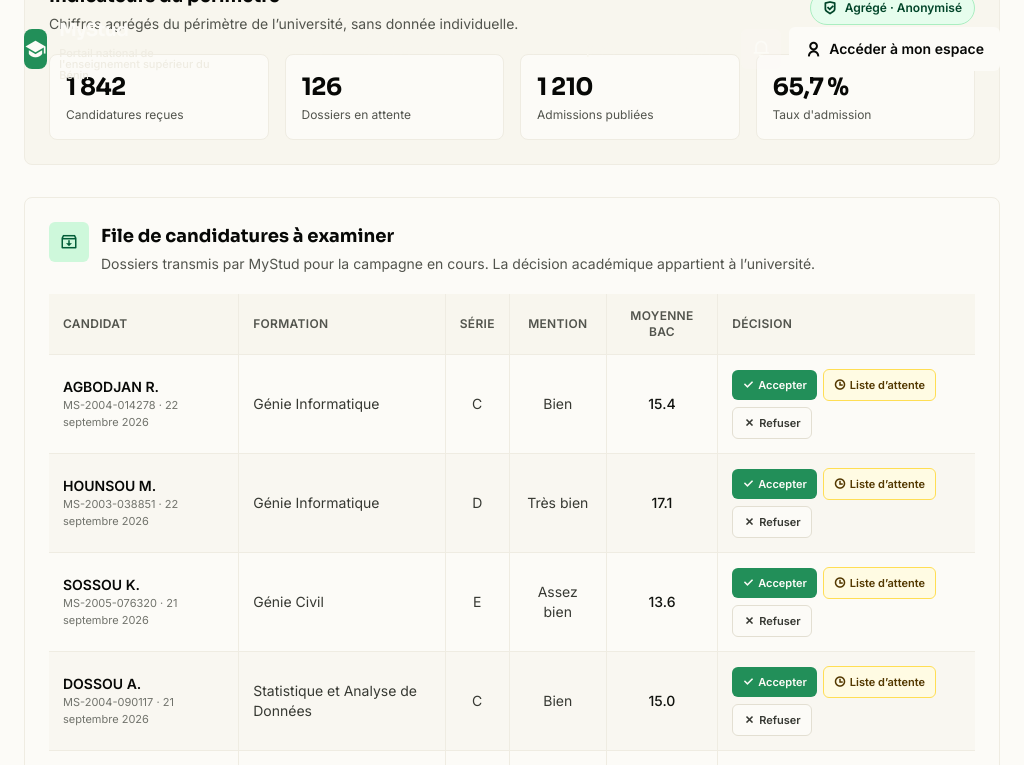
Scenario: Universite › keeps the locally-built audit event when posting to the backend fails
(page scrolled)
Click the button "Accepter" in the row of "AGBODJAN R." at (775, 385), box [732,370,817,400]
(page scrolled)
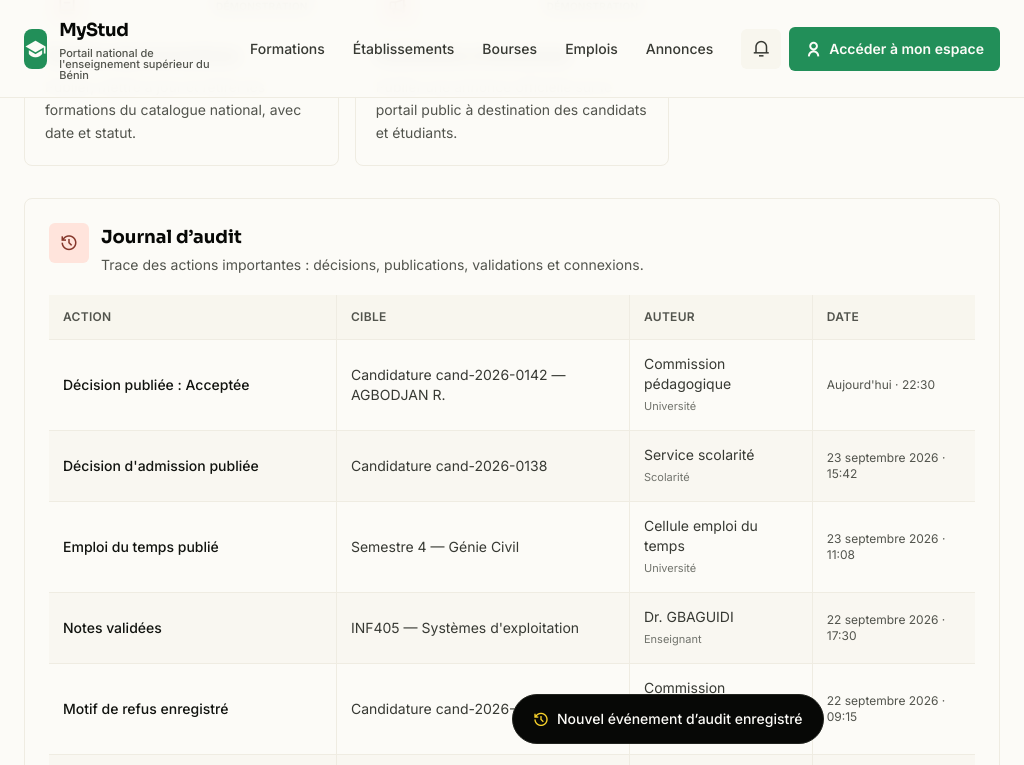
Result: the text "Décision publiée : Acceptée" is shown at [49,339,336,430]
